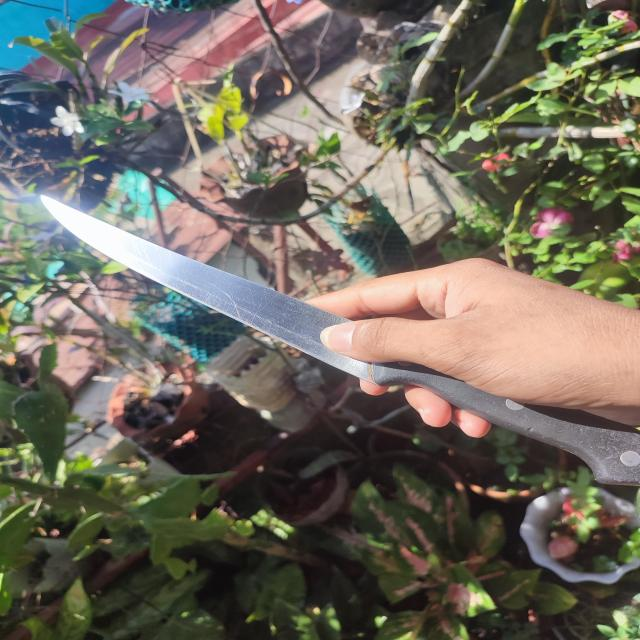knife: (40, 194, 640, 483)
